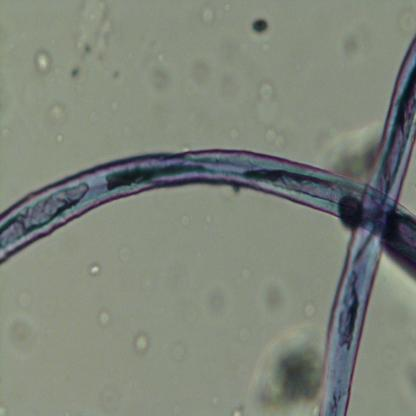Background material: (248, 320, 324, 416), (71, 1, 117, 82), (190, 38, 247, 96), (383, 302, 416, 390), (146, 42, 176, 99), (0, 314, 38, 352), (262, 276, 288, 319), (202, 276, 231, 314), (95, 370, 120, 410), (166, 324, 189, 363), (34, 48, 53, 76), (399, 5, 416, 36), (48, 103, 69, 128), (250, 18, 272, 38), (258, 79, 276, 103), (265, 128, 285, 149), (199, 5, 217, 27), (85, 105, 102, 128), (119, 125, 137, 146), (135, 333, 150, 357), (343, 34, 358, 58), (98, 308, 113, 331), (303, 299, 318, 320), (226, 128, 243, 145), (183, 213, 197, 233), (89, 263, 101, 278), (111, 102, 121, 119), (54, 132, 65, 146)
Cotton: (0, 148, 416, 278), (317, 37, 416, 414)
